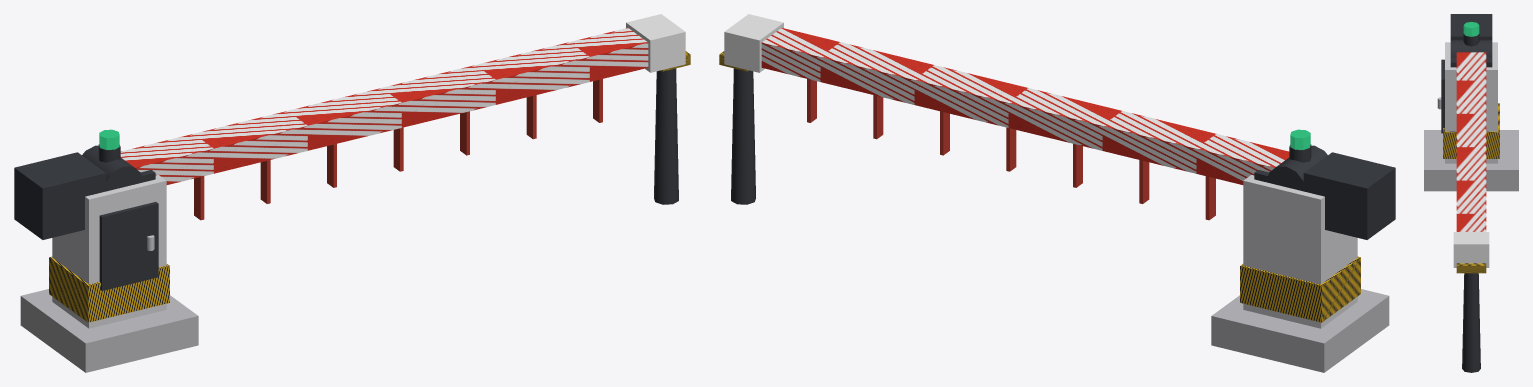
3 renders of one model, left to right at view 1: azimuth 30°, elevation 25°; view 2: azimuth 150°, elevation 25°; view 3: azimuth 270°, elevation 25°, orthographic. The views are drawn at different scales.
Parts seen in each view (by area): view 1: object 7, object 4, object 1, object 2, object 3, object 9, object 8; view 2: object 7, object 4, object 2, object 1, object 3, object 9, object 8; view 3: object 7, object 4, object 1, object 2, object 8, object 3, sinaleira.
Part boxes in pixels (box(x1,y1,x2,y2)): object 7: box(120, 28, 648, 184); object 4: box(14, 68, 678, 290); object 1: box(20, 289, 198, 372); object 2: box(52, 175, 166, 328); object 3: box(49, 51, 690, 322); object 9: box(194, 79, 602, 220); object 8: box(626, 14, 685, 72); object 7: box(761, 28, 1289, 184); object 4: box(731, 68, 1395, 239); object 2: box(1243, 175, 1357, 328); object 1: box(1211, 289, 1389, 372); object 3: box(719, 51, 1360, 322); object 9: box(807, 79, 1215, 220); object 8: box(724, 14, 783, 72); object 7: box(1456, 52, 1486, 231); object 4: box(1441, 14, 1492, 372); object 1: box(1424, 130, 1518, 191); object 2: box(1445, 42, 1497, 163); object 8: box(1453, 232, 1489, 267); object 3: box(1443, 103, 1499, 273); sinaleira: box(1463, 22, 1479, 36).
Size of the model in its own units: 9.25 by 2.73 by 1.6.
Materials: 9 (2 with a texture image).
